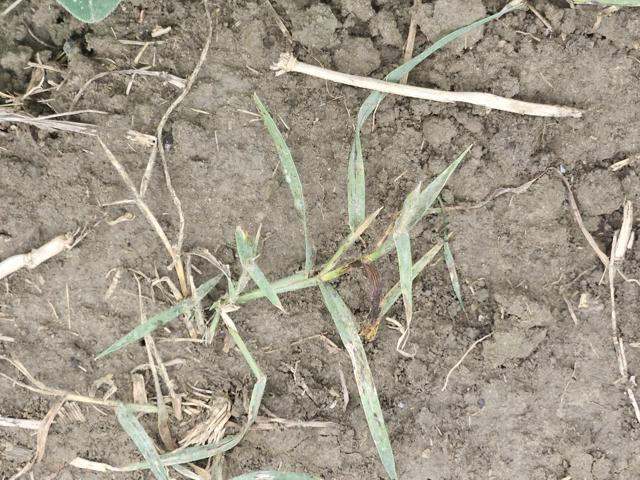bad weed: (26, 98, 277, 460), (280, 127, 474, 465)
